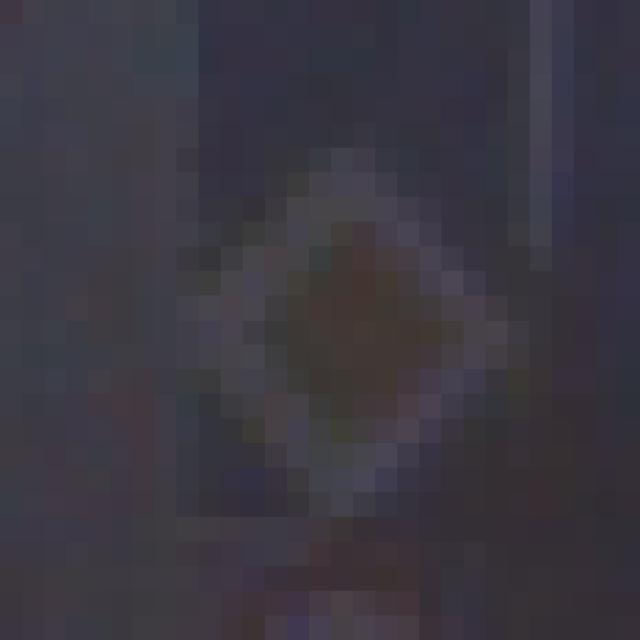Main Road: (134, 124, 531, 518)
